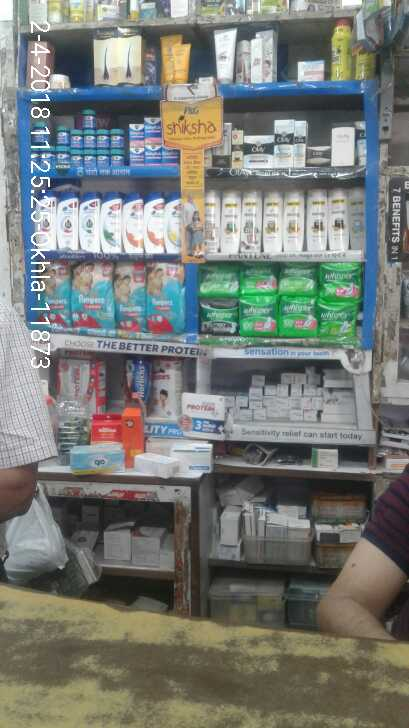vicks: (31, 111, 165, 165)
